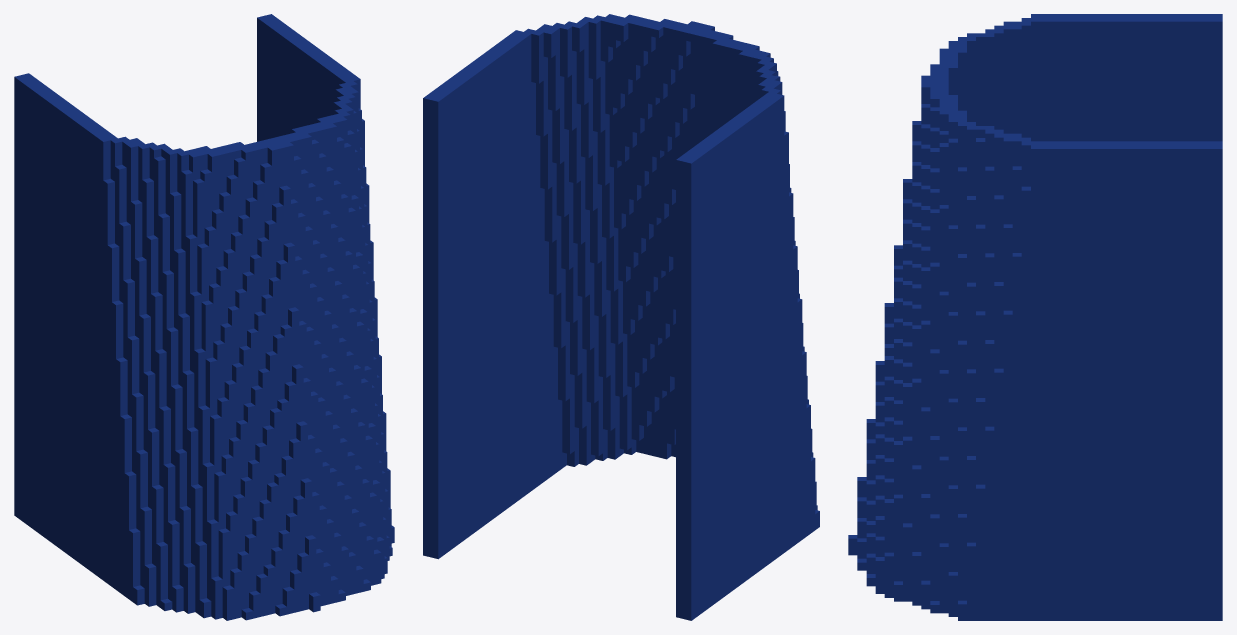
File: Glass.fbx
3 views of the same model, side by side, from view 1: azimuth 30°, elevation 25°; view 2: azimuth 150°, elevation 25°; view 3: azimuth 270°, elevation 25° (orthographic). The views are drawn at different scales.
Visible parts, largest first — view 1: Glass; view 2: Glass; view 3: Glass.
Part boxes in pixels (x1,y1,x2,y2): Glass: [14, 14, 394, 620]; Glass: [423, 14, 819, 620]; Glass: [848, 14, 1222, 620].
Size of the model in its own units: 359 by 584 by 420.
